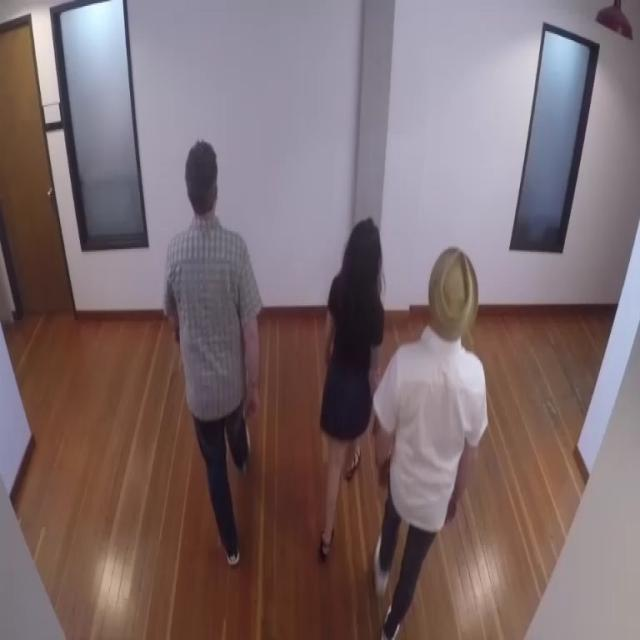Stupid: (370, 246, 488, 638), (162, 138, 262, 566), (318, 216, 385, 558)
